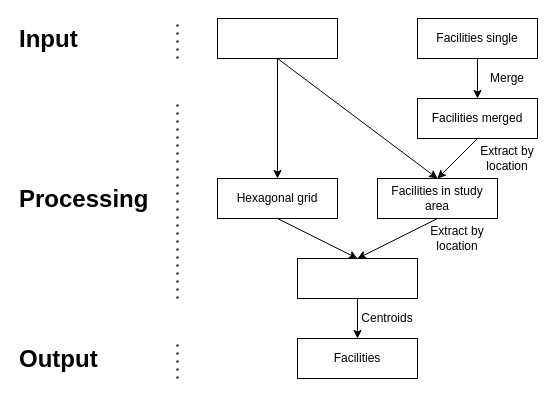
The diagram is 555 pixels wide and 398 high, and some of its shapes have lost their labels. The shapes that lost their labels are listed below. From the top down, each one's box as (x1, y1, x2, y2) in pixels, then its label:
(216, 18, 338, 58): Study area
(296, 258, 418, 298): Grid polygons with Facilities inside
